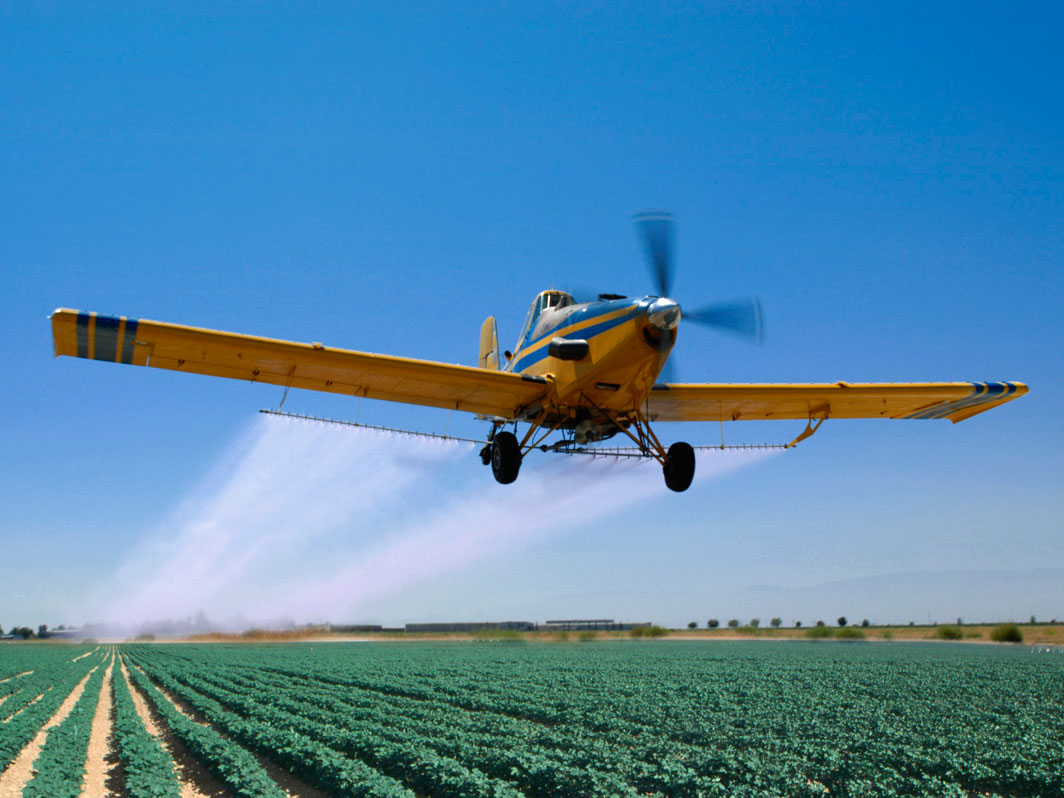Aeronef_de_service: (26, 202, 1042, 533)
